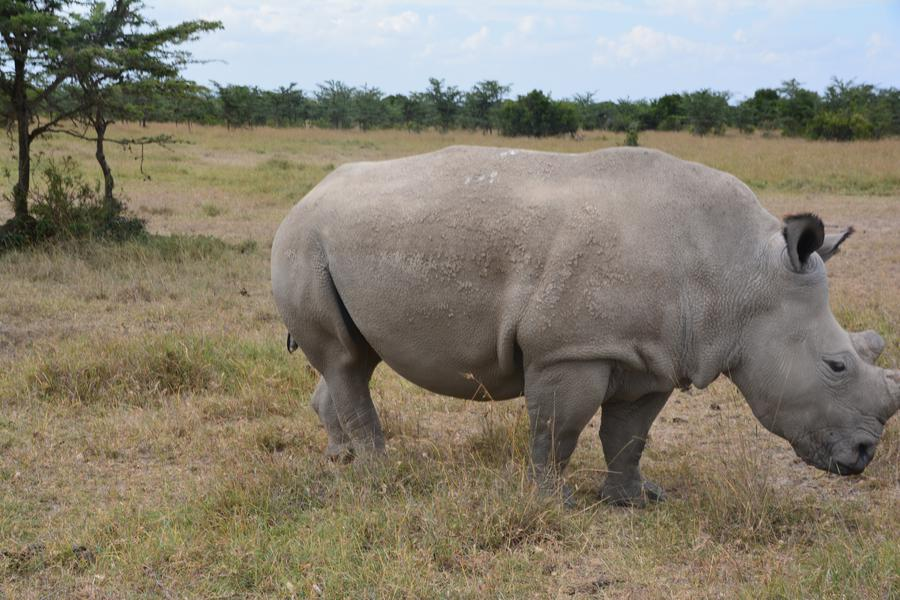rhino: (277, 134, 858, 510)
